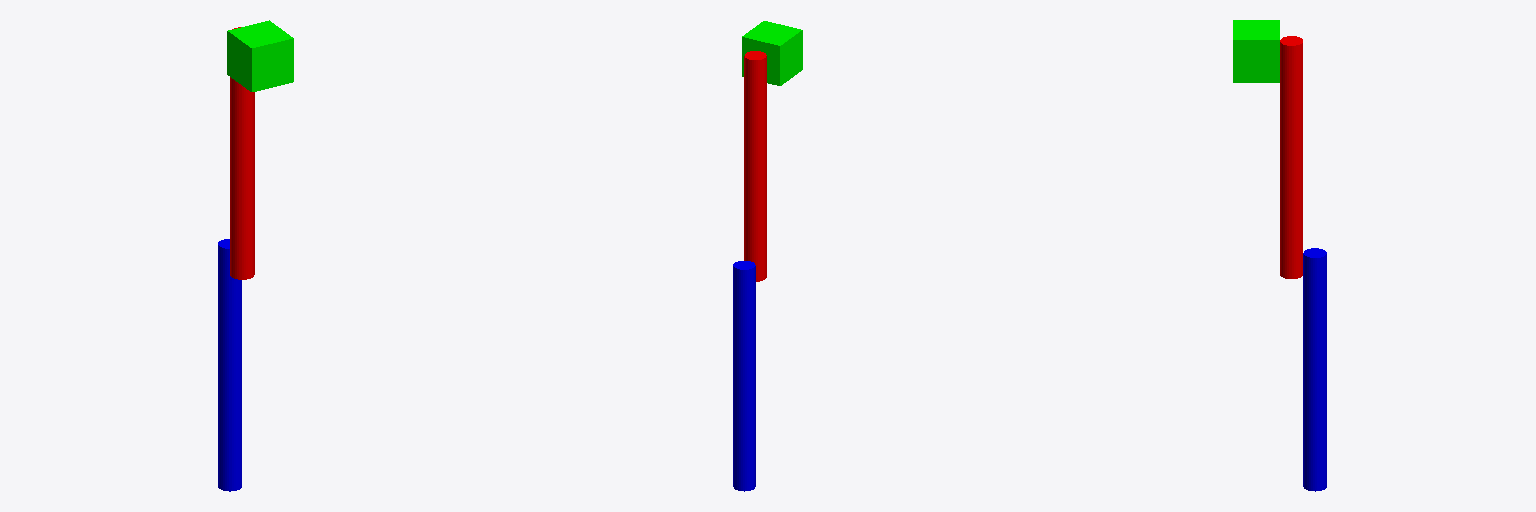
robot.urdf — DoublePendulum:
<?xml version="1.0"?>

<robot name="DoublePendulum">
  <link name="base_link">
    <visual>
      <geometry>
         <box size=".2 .2 .2" />
      </geometry>
      <material name="green">
	       <color rgba="0 1 0 1" />
      </material>
    </visual>
  </link>

  <link name="upper_link">
    <inertial>
      <origin xyz="0 0 -.5" rpy="0 0 0" />
      <mass value="1" />
      <inertia ixx="1" ixy="0" ixz="0" iyy="0.083" iyz="0" izz="1" />
    </inertial>
    <visual>
      <origin xyz="0 0 -.5" rpy="0 0 0" />
      <geometry>
         <cylinder length="1.1" radius=".05" />
      </geometry>
      <material name="red">
	       <color rgba="1 0 0 1" />
      </material>
    </visual>
  </link>

  <link name="lower_link">
    <inertial>
      <origin xyz="0 0 -.5" rpy="0 0 0" />
      <mass value="1" />
      <inertia ixx="1" ixy="0" ixz="0" iyy="0.083" iyz="0" izz="1" />
    </inertial>
    <visual>
      <origin xyz="0 0 -.5" rpy="0 0 0" />
      <geometry>
         <cylinder length="1.1" radius=".05" />
      </geometry>
      <material name="blue">
	       <color rgba="0 0 1 1" />
      </material>
    </visual>
  </link>

  <joint name="shoulder" type="continuous">
    <parent link="base_link" />
    <child link="upper_link" />
    <origin xyz="0 .15 0" />
            <!-- rpy="0 1.570796327 0"  -->
    <axis xyz="0 1 0" />
    <dynamics damping="0.1" />
  </joint>

  <joint name="elbow" type="continuous">
    <parent link="upper_link" />
    <child link="lower_link" />
    <origin xyz="0 .1 -1" />
    <axis xyz="0 1 0" />
    <dynamics damping="0.1" />
  </joint>
</robot>

--- Render facts (derived) ---
3 views of the same robot in one strip: view 1: azimuth 30°, elevation 25°; view 2: azimuth 150°, elevation 25°; view 3: azimuth 270°, elevation 25° (orthographic).
Robot: DoublePendulum — 3 links, 2 joints (2 continuous); root link base_link; default pose: every joint at zero.
Links seen in each view (by area): view 1: lower_link, upper_link, base_link; view 2: lower_link, upper_link, base_link; view 3: lower_link, upper_link, base_link.
Boxes of the visible links, x1,y1,x2,y2 form: lower_link: (218,239,241,491); upper_link: (230,27,254,279); base_link: (227,20,293,91); lower_link: (733,261,755,491); upper_link: (744,51,766,281); base_link: (742,21,802,85); lower_link: (1303,248,1326,491); upper_link: (1280,36,1302,278); base_link: (1233,20,1279,82).
Bounding box of the posed robot: 0.2 × 0.4 × 2.15 m (x, y, z).
Geometry: primitives only (box / cylinder / sphere), no mesh files.